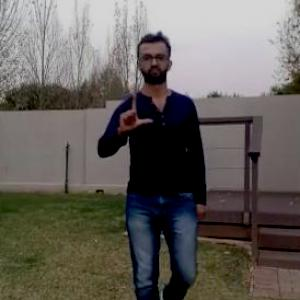land_hand: (112, 84, 156, 137)
